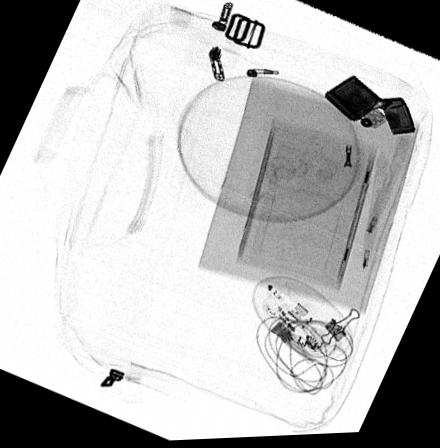Lighter: (324, 77, 416, 139)
